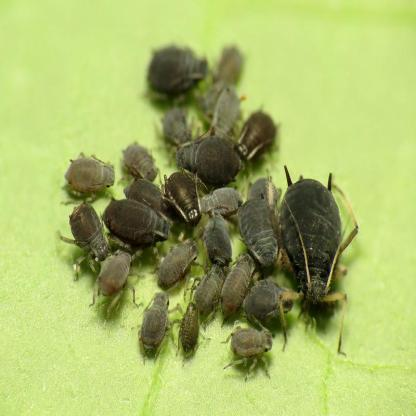aphid: (273, 163, 359, 322), (172, 130, 246, 187), (104, 193, 171, 253), (222, 320, 279, 390), (86, 246, 146, 311), (61, 198, 112, 269), (241, 187, 282, 271), (160, 160, 207, 232), (146, 40, 206, 96), (240, 271, 303, 322), (236, 102, 280, 172), (155, 223, 199, 292), (218, 242, 254, 324), (204, 82, 251, 143), (65, 147, 115, 199), (135, 286, 172, 354), (119, 138, 167, 184), (194, 252, 223, 323), (200, 201, 236, 257), (204, 176, 245, 218), (177, 300, 208, 351)
